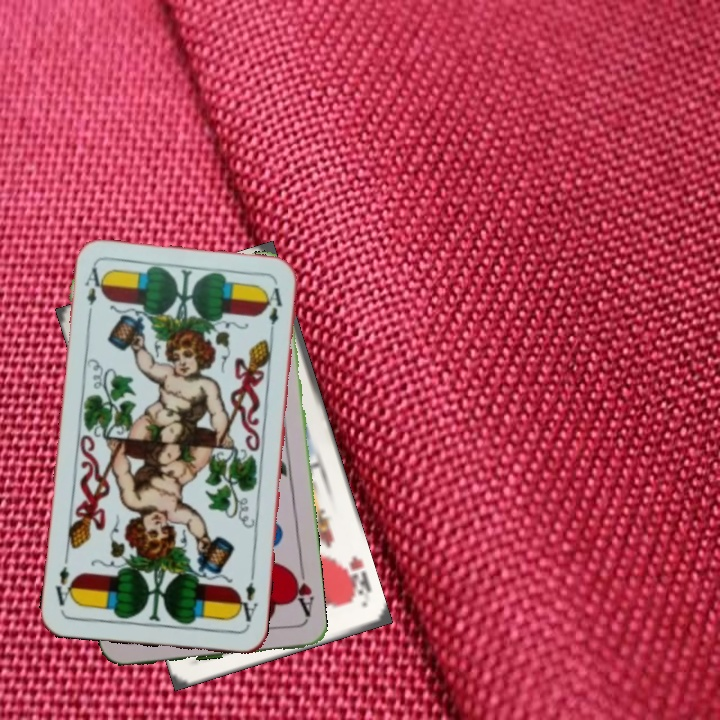EA: (233, 569, 261, 629), (81, 263, 107, 322)
HA: (286, 564, 316, 623)
HK: (336, 552, 374, 604)
